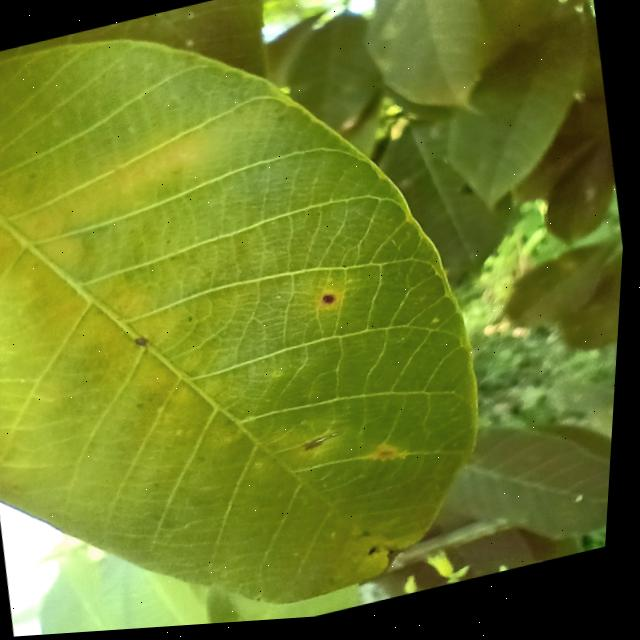Colletotrichum: (325, 297, 340, 310)
